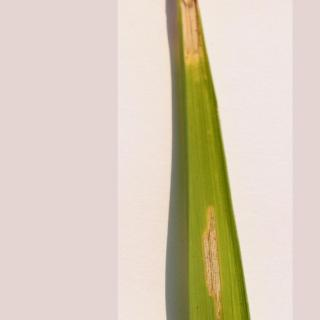Hawar-Daun: (192, 204, 236, 310), (179, 2, 208, 59)
